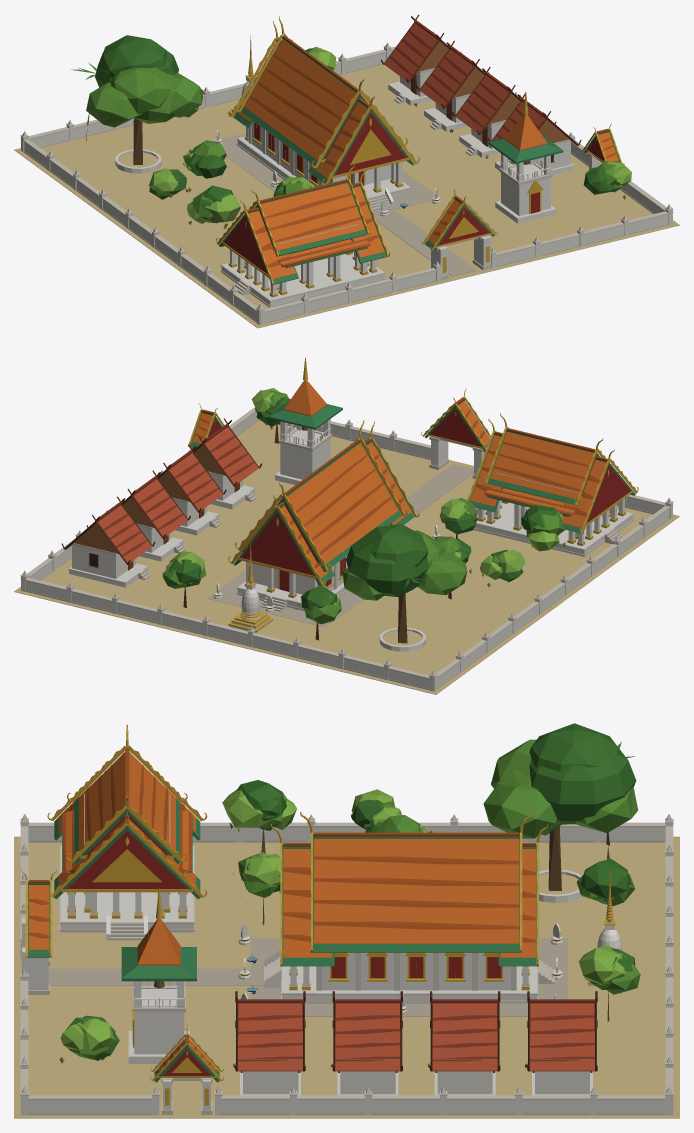
Rendered from temple_2.glb.
3 renders of one model, top to bottom at view 1: azimuth 30°, elevation 25°; view 2: azimuth 150°, elevation 25°; view 3: azimuth 270°, elevation 25°, orthographic. The views are drawn at different scales.
Parts seen in each view (by area): view 1: body; view 2: body; view 3: body.
Part boxes in pixels (x1=…): body: x1=14, y1=14, x2=679, y2=328; body: x1=14, y1=357, x2=679, y2=694; body: x1=14, y1=723, x2=679, y2=1118.
Size of the model in its own units: 47.9 by 13.47 by 47.9.
